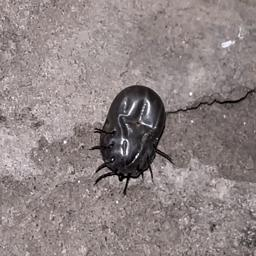Rhipicephalus sanguineus: (89, 85, 171, 196)
